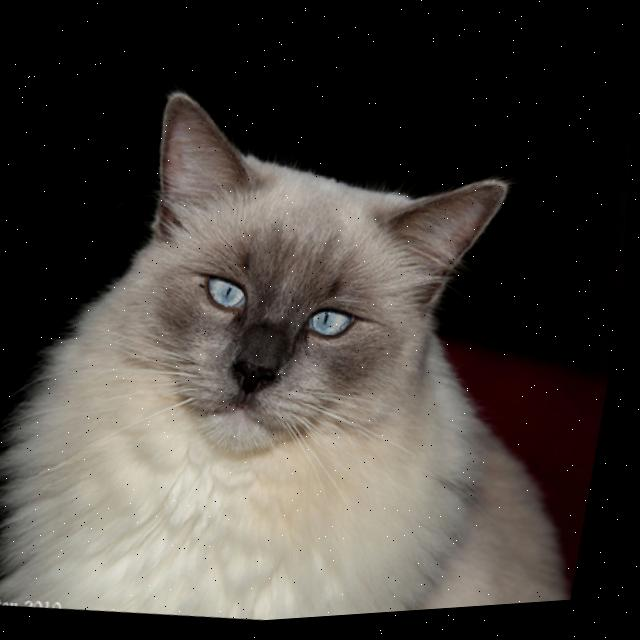Ragdoll: (0, 43, 637, 640)
